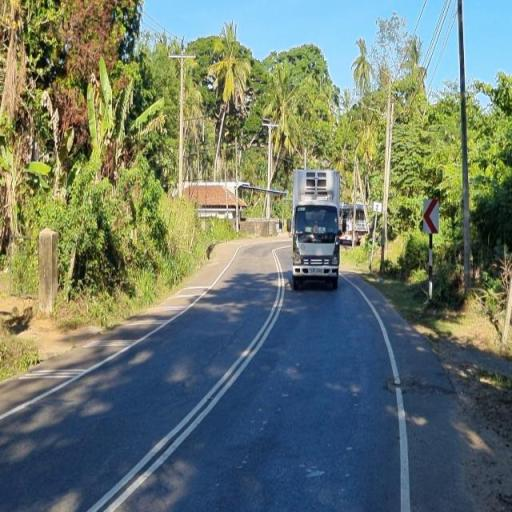double_white_line: (82, 243, 290, 512)
